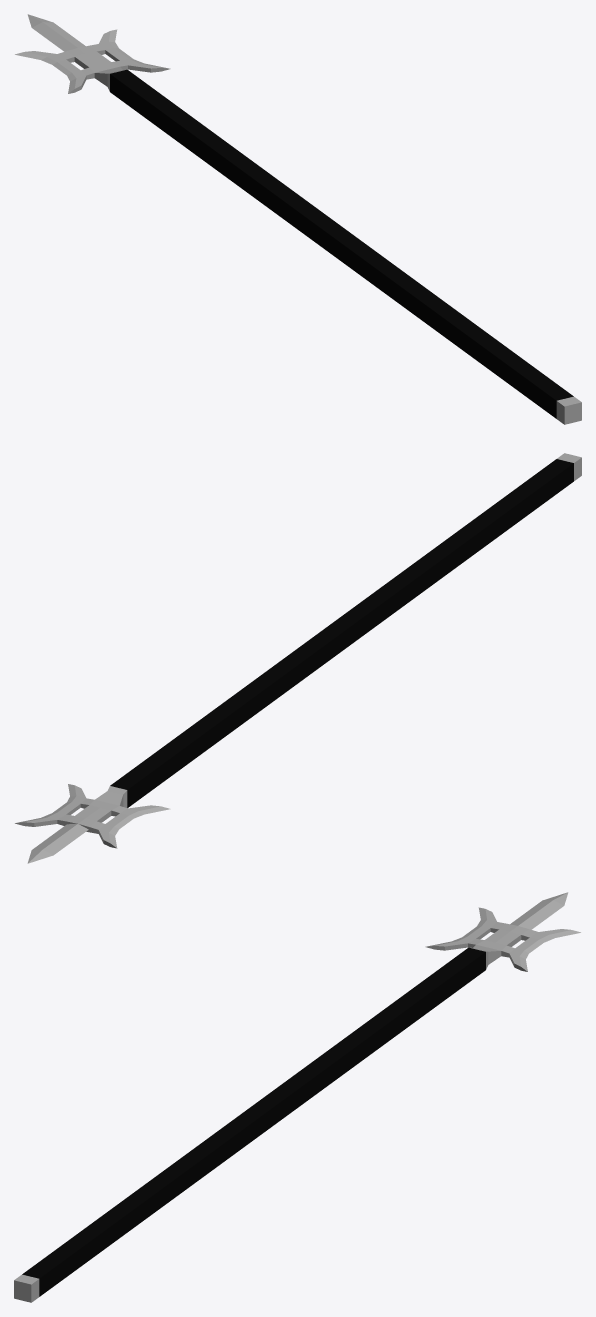
Rendered from Bishamon Yari - Textured Low Poly Asian Weapon Pack by Kickin It Studios.fbx.
3 views of the same model, one above another, from view 1: azimuth 30°, elevation 25°; view 2: azimuth 150°, elevation 25°; view 3: azimuth 330°, elevation 25° (orthographic).
Visible parts, largest first — view 1: Bishamon Yari; view 2: Bishamon Yari; view 3: Bishamon Yari.
Boxes of the visible parts, x1,y1,x2,y2 form: Bishamon Yari: (15, 14, 581, 424); Bishamon Yari: (15, 453, 581, 863); Bishamon Yari: (14, 892, 580, 1302).
Size of the model in its own units: 140 by 23.76 by 1285.
